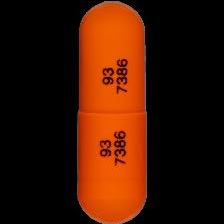63629-4534: (0, 0, 224, 224)
